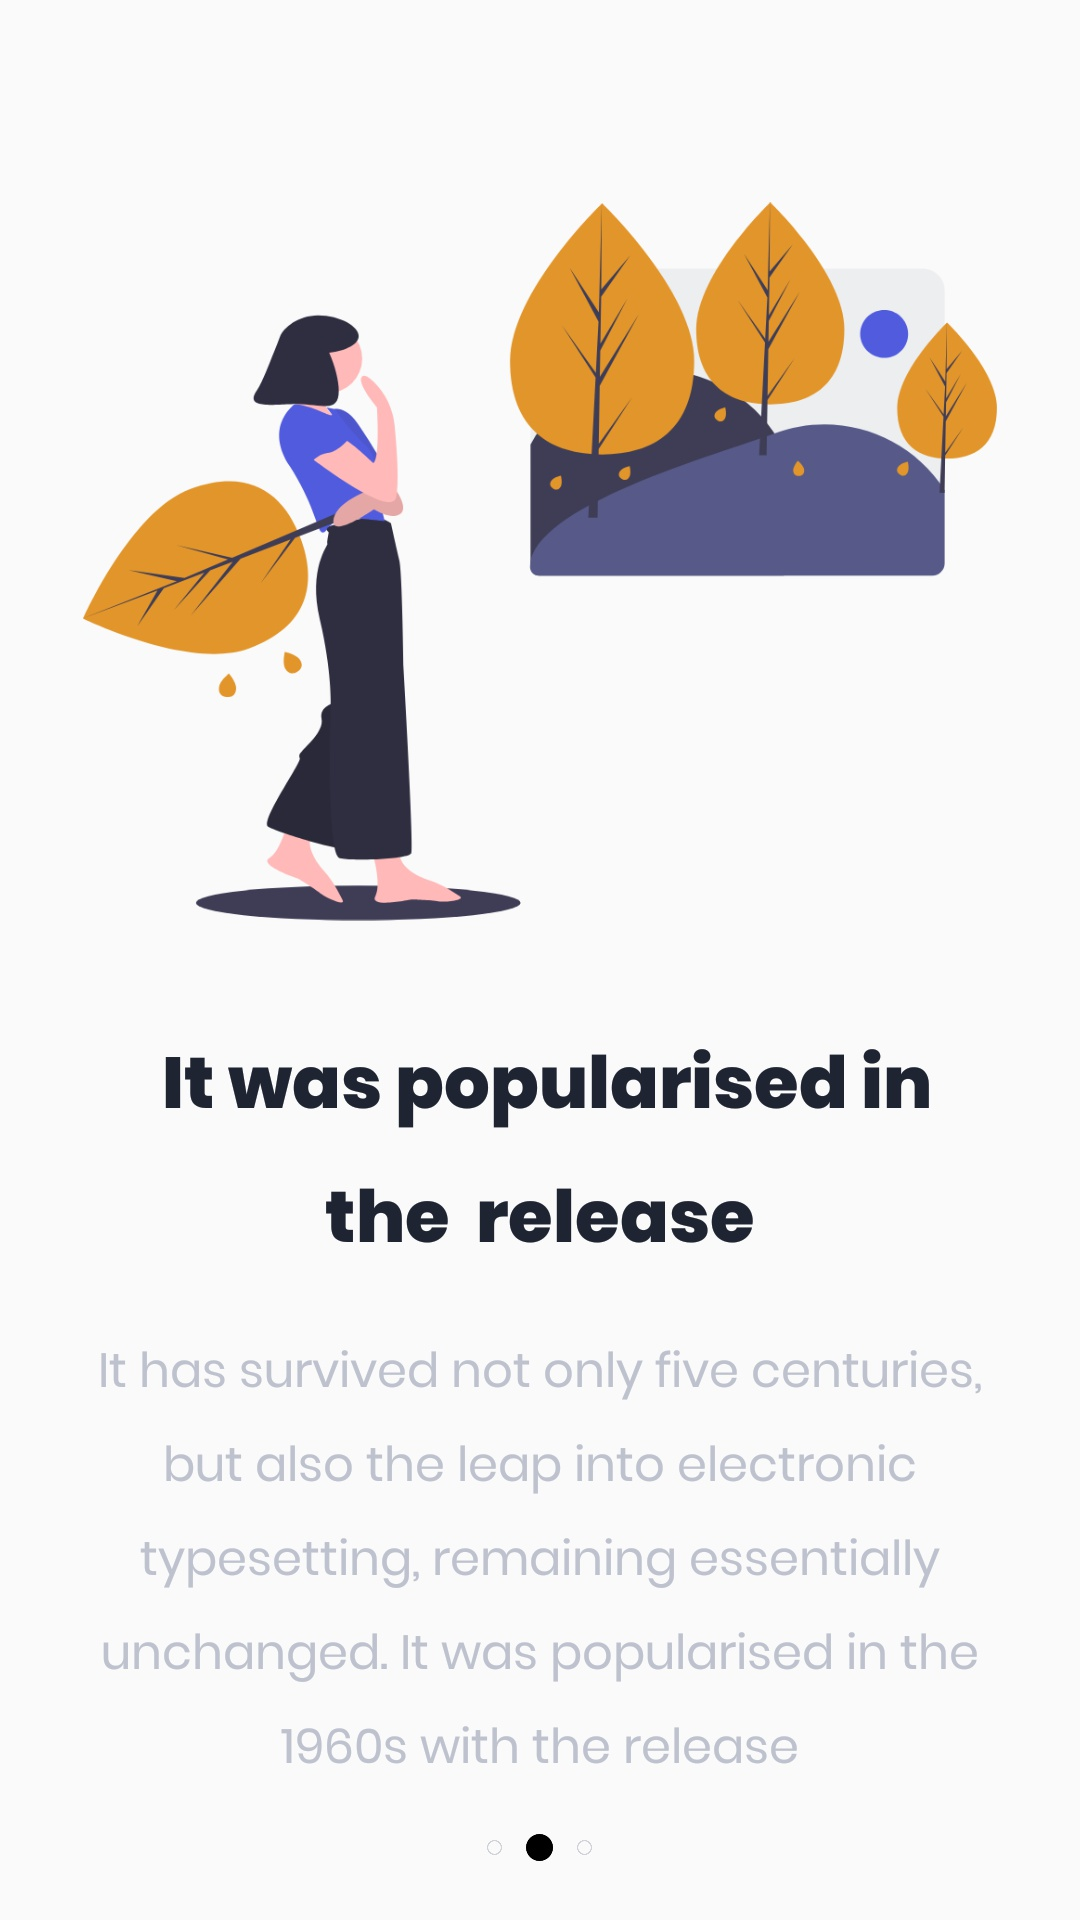Image: (83, 200, 1000, 923)
PageIndicator: (485, 1832, 596, 1863)
Text: (100, 1348, 982, 1766), (165, 1047, 931, 1244)
